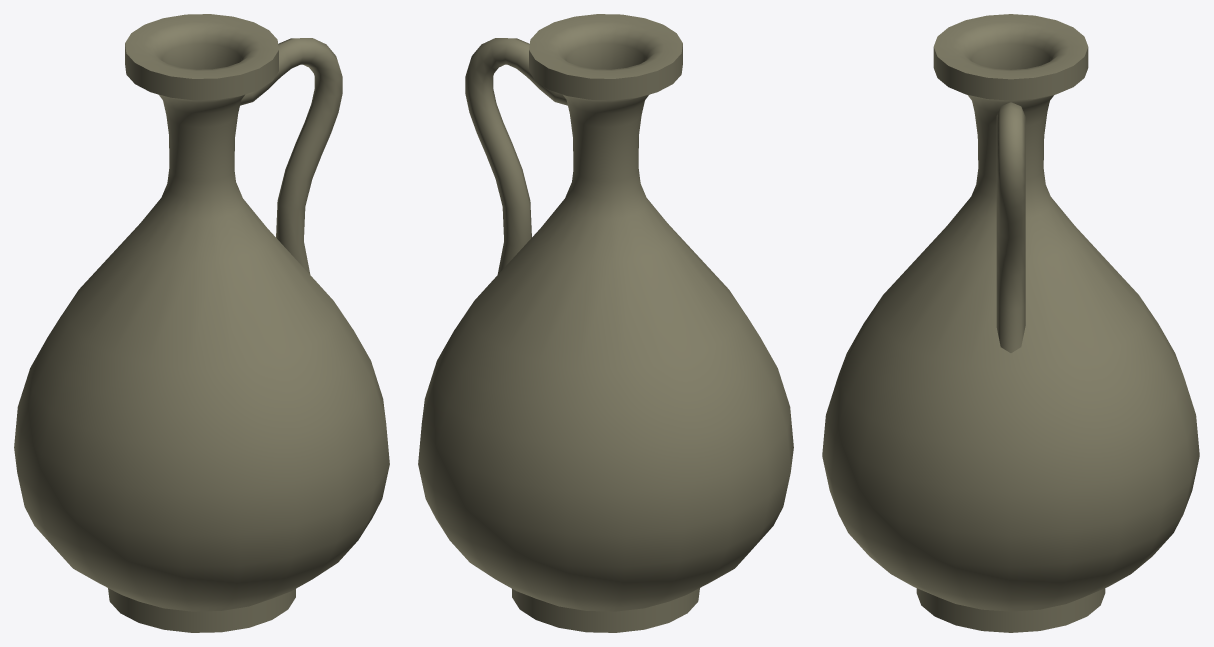
File: WM_PitcherPot.fbx
The picture shows the model from 3 angles, left to right: view 1: azimuth 30°, elevation 25°; view 2: azimuth 150°, elevation 25°; view 3: azimuth 270°, elevation 25°; orthographic projection.
Visible parts, largest first — view 1: Cylinder.018; view 2: Cylinder.018; view 3: Cylinder.018.
Part boxes in pixels (left/top/right/bottom): Cylinder.018: left=14, top=14, right=389, bottom=632; Cylinder.018: left=418, top=14, right=793, bottom=632; Cylinder.018: left=822, top=14, right=1199, bottom=632.
Bounding box in the file's own units: 2.3 × 3.68 × 2.3.
